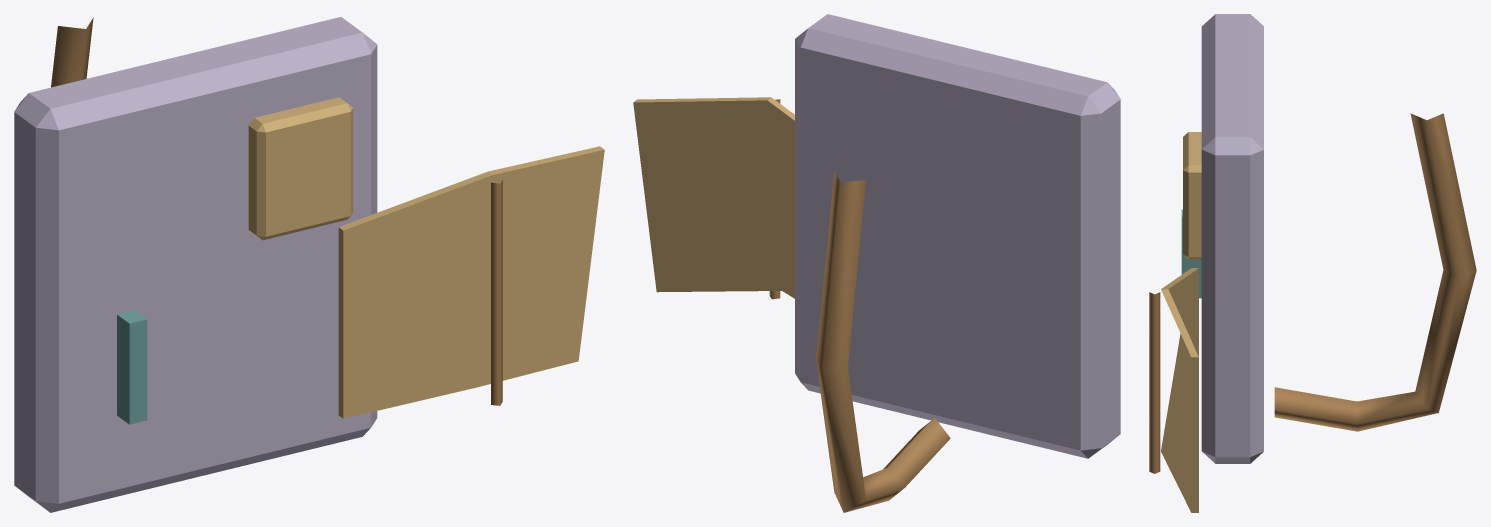
Rendered from micro_researcher.glb.
The picture shows the model from 3 angles, left to right: view 1: azimuth 30°, elevation 25°; view 2: azimuth 150°, elevation 25°; view 3: azimuth 270°, elevation 25°; orthographic projection. The views are drawn at different scales.
Parts seen in each view (by area): view 1: micro_researcher; view 2: micro_researcher; view 3: micro_researcher.
Boxes of the visible parts, left/top/right/bottom form: micro_researcher: left=14, top=17, right=604, bottom=512; micro_researcher: left=633, top=14, right=1120, bottom=512; micro_researcher: left=1149, top=14, right=1476, bottom=512.
Bounding box in the file's own units: 0.373 × 0.2834 × 0.2362.
